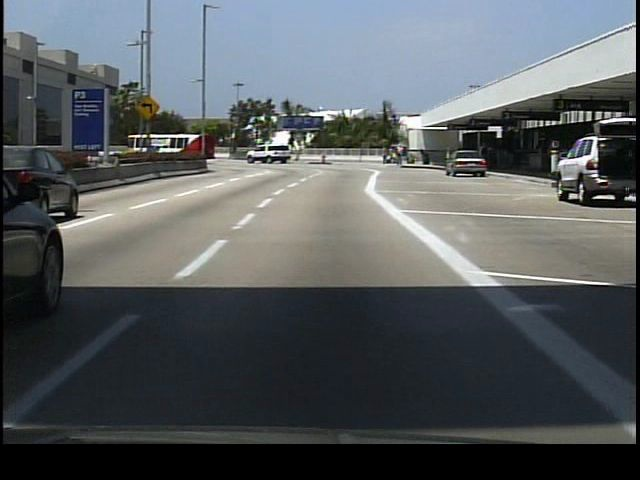person: (478, 149, 494, 180), (395, 145, 405, 173), (381, 147, 389, 171)
